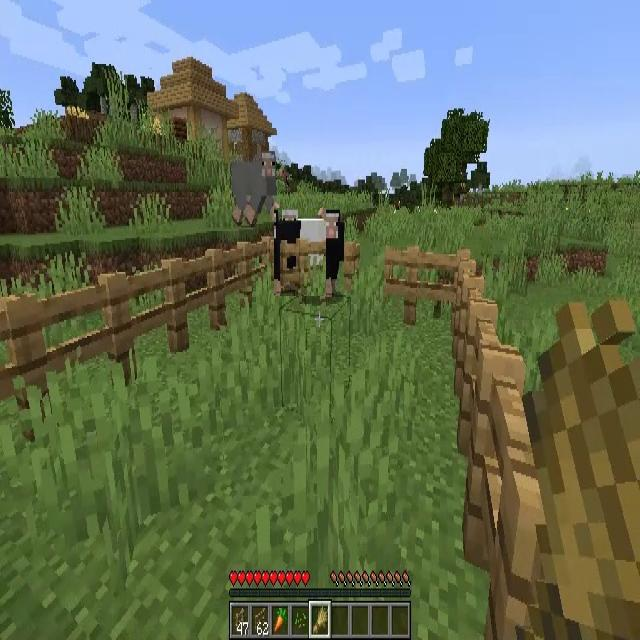sheep: (274, 208, 326, 296), (232, 152, 278, 226), (318, 206, 344, 296)
